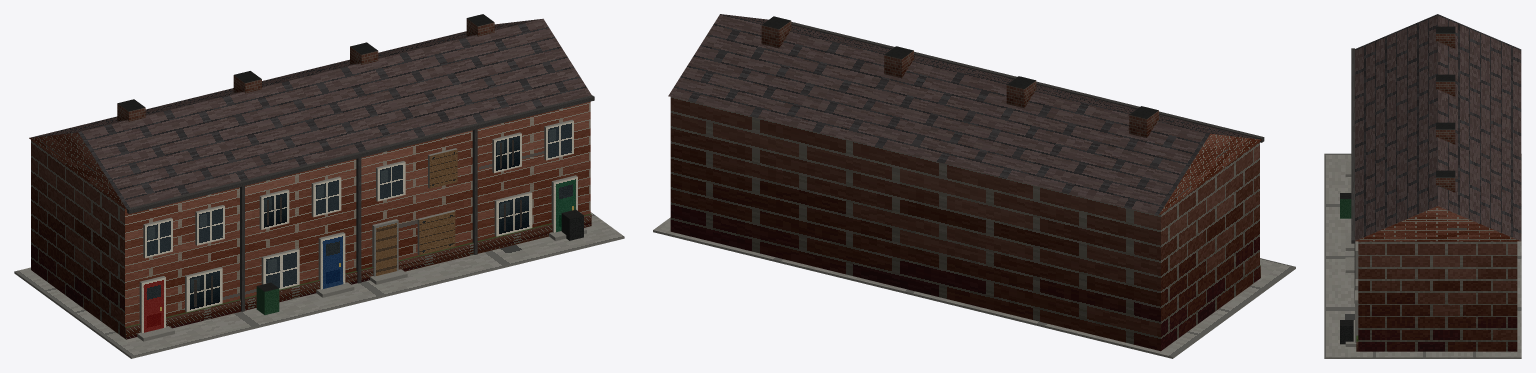
The model's file is building_council_terrace.glb.
3 views of the same model, side by side, from view 1: azimuth 30°, elevation 25°; view 2: azimuth 150°, elevation 25°; view 3: azimuth 270°, elevation 25° (orthographic). The views are drawn at different scales.
Parts seen in each view (by area): view 1: Building_CouncilTerrace_Row4; view 2: Building_CouncilTerrace_Row4; view 3: Building_CouncilTerrace_Row4.
Part boxes in pixels (box(x1,y1,x2,y2)): Building_CouncilTerrace_Row4: box(14, 14, 624, 358); Building_CouncilTerrace_Row4: box(653, 14, 1295, 358); Building_CouncilTerrace_Row4: box(1324, 14, 1521, 358).
Size of the model in its own units: 21.2 by 7.53 by 8.7.
1 material, 1 textured.
